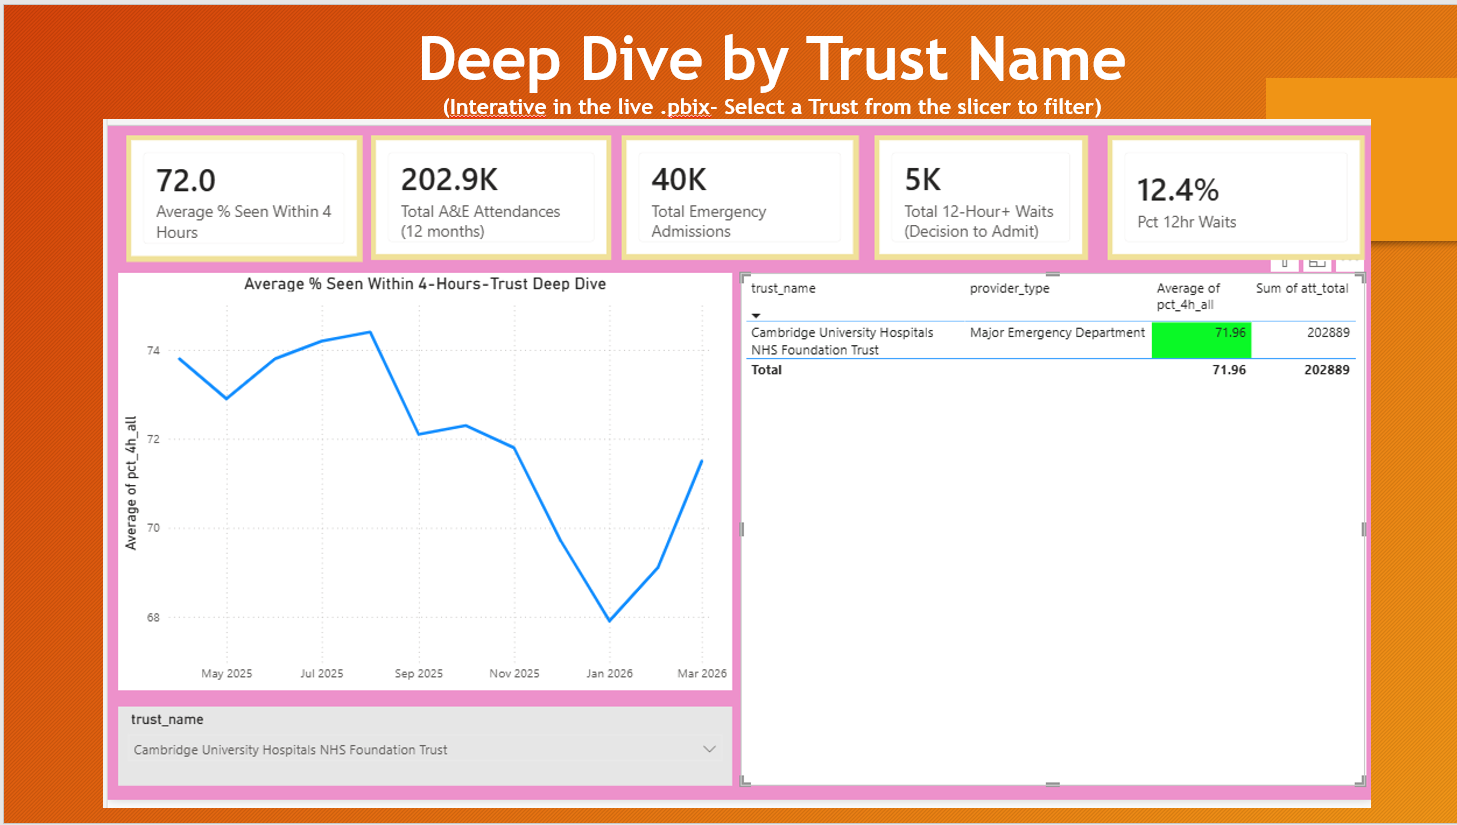

Layout of this report page (visuals, bound fields, positions):
{"tool":"powerbi","page":{"name":"Deep Dive Page","canvas":[1280,720],"ordinal":1},"visuals":[{"type":"lineChart","title":"Average % Seen Within 4-Hours-Trust Deep Dive","fields":{"Category":["gold dim_date.report_date.Variation.Date Hierarchy.Year","gold dim_date.report_date.Variation.Date Hierarchy.Quarter","gold dim_date.report_date.Variation.Date Hierarchy.Month"],"Y":["Avg(gold fact_ae_monthly.pct_4h_all)"]},"box":[10.3,187.3,621.2,422.5],"z":0},{"type":"tableEx","fields":{"Values":["gold dim_provider.trust_name","gold dim_provider.provider_type","Avg(gold fact_ae_monthly.pct_4h_all)","Sum(gold fact_ae_monthly.att_total)"]},"box":[639.4,187.3,632.6,518.4],"z":1000},{"type":"slicer","fields":{"Values":["gold dim_provider.trust_name"]},"box":[10.3,625.7,621.2,79.9],"z":2000},{"type":"cardVisual","title":"Average of pct_4h_all and Total A&E Attendances (12 months) Total attendances across the year","fields":{"Data":["Avg(gold fact_ae_monthly.pct_4h_all)"]},"box":[18.3,48,238.6,127.9],"z":3000},{"type":"cardVisual","fields":{"Data":["Sum(gold fact_ae_monthly.att_total)"]},"box":[266,48,243.2,125.6],"z":4000},{"type":"cardVisual","fields":{"Data":["Sum(gold fact_ae_monthly.adm_total)"]},"box":[519.5,48,239.8,125.6],"z":5000},{"type":"cardVisual","fields":{"Data":["Sum(gold fact_ae_monthly.dta_gt12h)"]},"box":[775.3,48,215.8,125.6],"z":6000},{"type":"cardVisual","fields":{"Data":["gold fact_ae_monthly.Pct 12hr Waits"]},"box":[1011.7,48,260.3,125.6],"z":7000}]}

Visuals, with their boxes in screenshot pixels (x1, y1, x2, y2), scaled from the page's 1280x720 canvas onto the 1457x825 screenshot:
"Average % Seen Within 4-Hours-Trust Deep Dive" lineChart: l=12, t=215, r=719, b=699
tableEx - gold dim_provider.trust_name x gold dim_provider.provider_type: l=728, t=215, r=1448, b=809
slicer - gold dim_provider.trust_name: l=12, t=717, r=719, b=808
"Average of pct_4h_all and Total A&E Attendances (12 months) Total attendances across the year" cardVisual: l=21, t=55, r=292, b=202
cardVisual - Sum(gold fact_ae_monthly.att_total): l=303, t=55, r=580, b=199
cardVisual - Sum(gold fact_ae_monthly.adm_total): l=591, t=55, r=864, b=199
cardVisual - Sum(gold fact_ae_monthly.dta_gt12h): l=883, t=55, r=1128, b=199
cardVisual - gold fact_ae_monthly.Pct 12hr Waits: l=1152, t=55, r=1448, b=199
